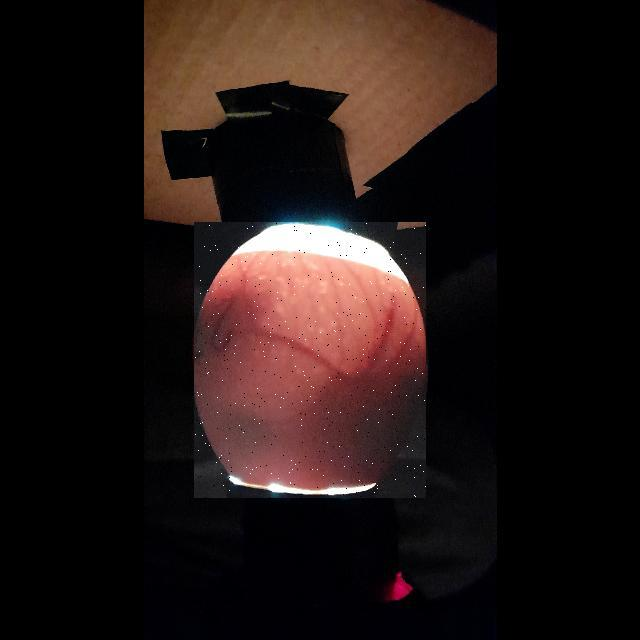Fertile: (194, 222, 426, 498)
